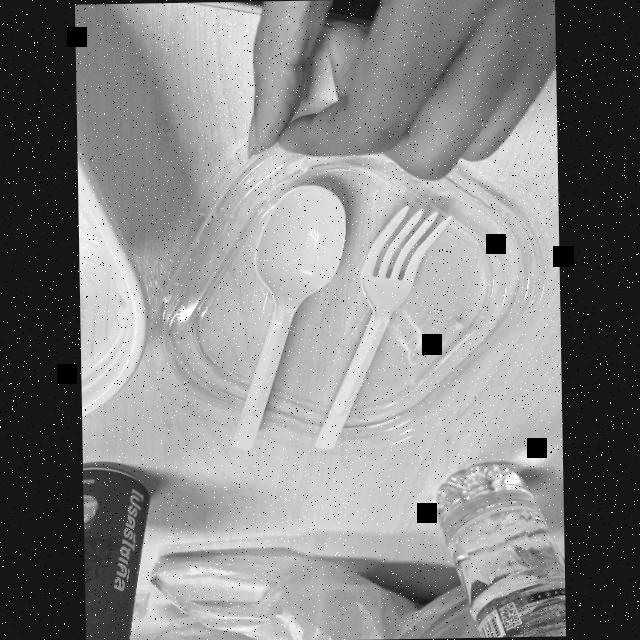plastic_spoon: (207, 167, 351, 454), (308, 200, 454, 458)
